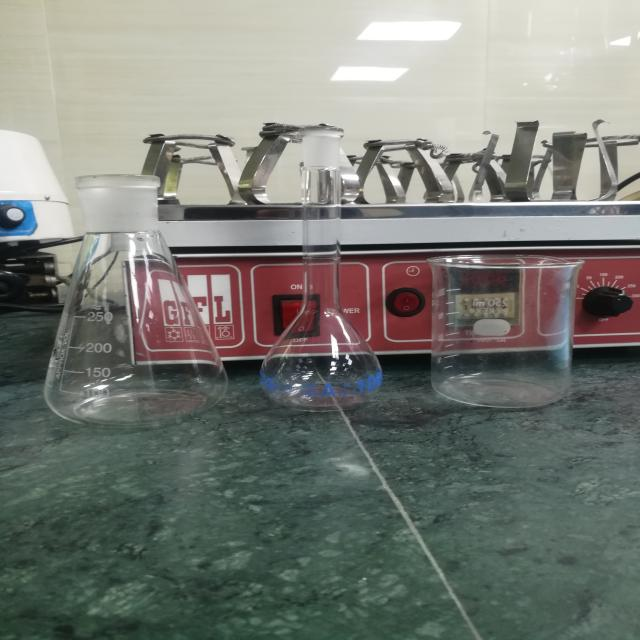Beaker: (416, 221, 600, 422)
Conical_Flask: (48, 152, 223, 440)
Volumetric_Flask: (250, 125, 387, 413)
